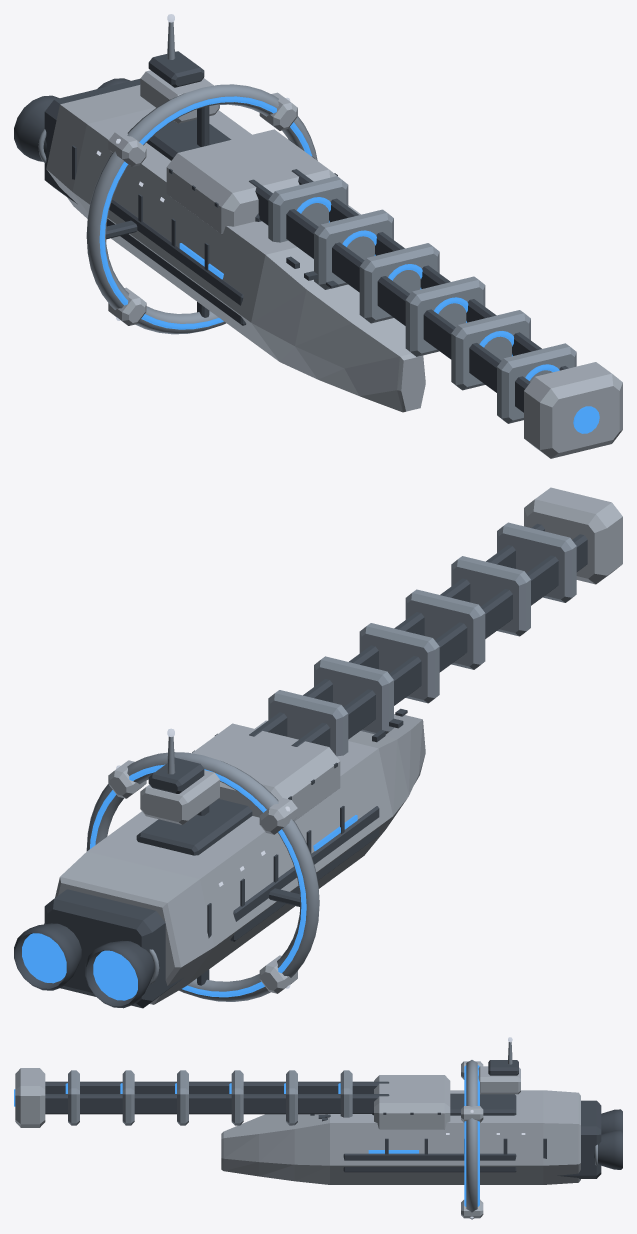
The model's file is artillery.glb.
The picture shows the model from 3 angles, top to bottom: view 1: azimuth 30°, elevation 25°; view 2: azimuth 150°, elevation 25°; view 3: azimuth 270°, elevation 25°; orthographic projection. The views are drawn at different scales.
Parts seen in each view (by area): view 1: hull, trim, hull2, team_glow; view 2: hull, hull2, trim, team_glow; view 3: hull, hull2, trim, team_glow.
Boxes of the visible parts, bbox=[...] form: hull: bbox=[46, 70, 622, 458]; trim: bbox=[38, 22, 576, 423]; hull2: bbox=[14, 51, 568, 412]; team_glow: bbox=[99, 96, 599, 433]; hull: bbox=[55, 487, 622, 1004]; hull2: bbox=[14, 523, 587, 1008]; trim: bbox=[44, 522, 576, 1001]; team_glow: bbox=[22, 764, 357, 1000]; hull: bbox=[15, 1061, 580, 1218]; hull2: bbox=[45, 1060, 622, 1178]; trim: bbox=[68, 1042, 597, 1219]; team_glow: bbox=[14, 1065, 479, 1206].
Size of the model in its own units: 2.94 by 3.54 by 11.17.
